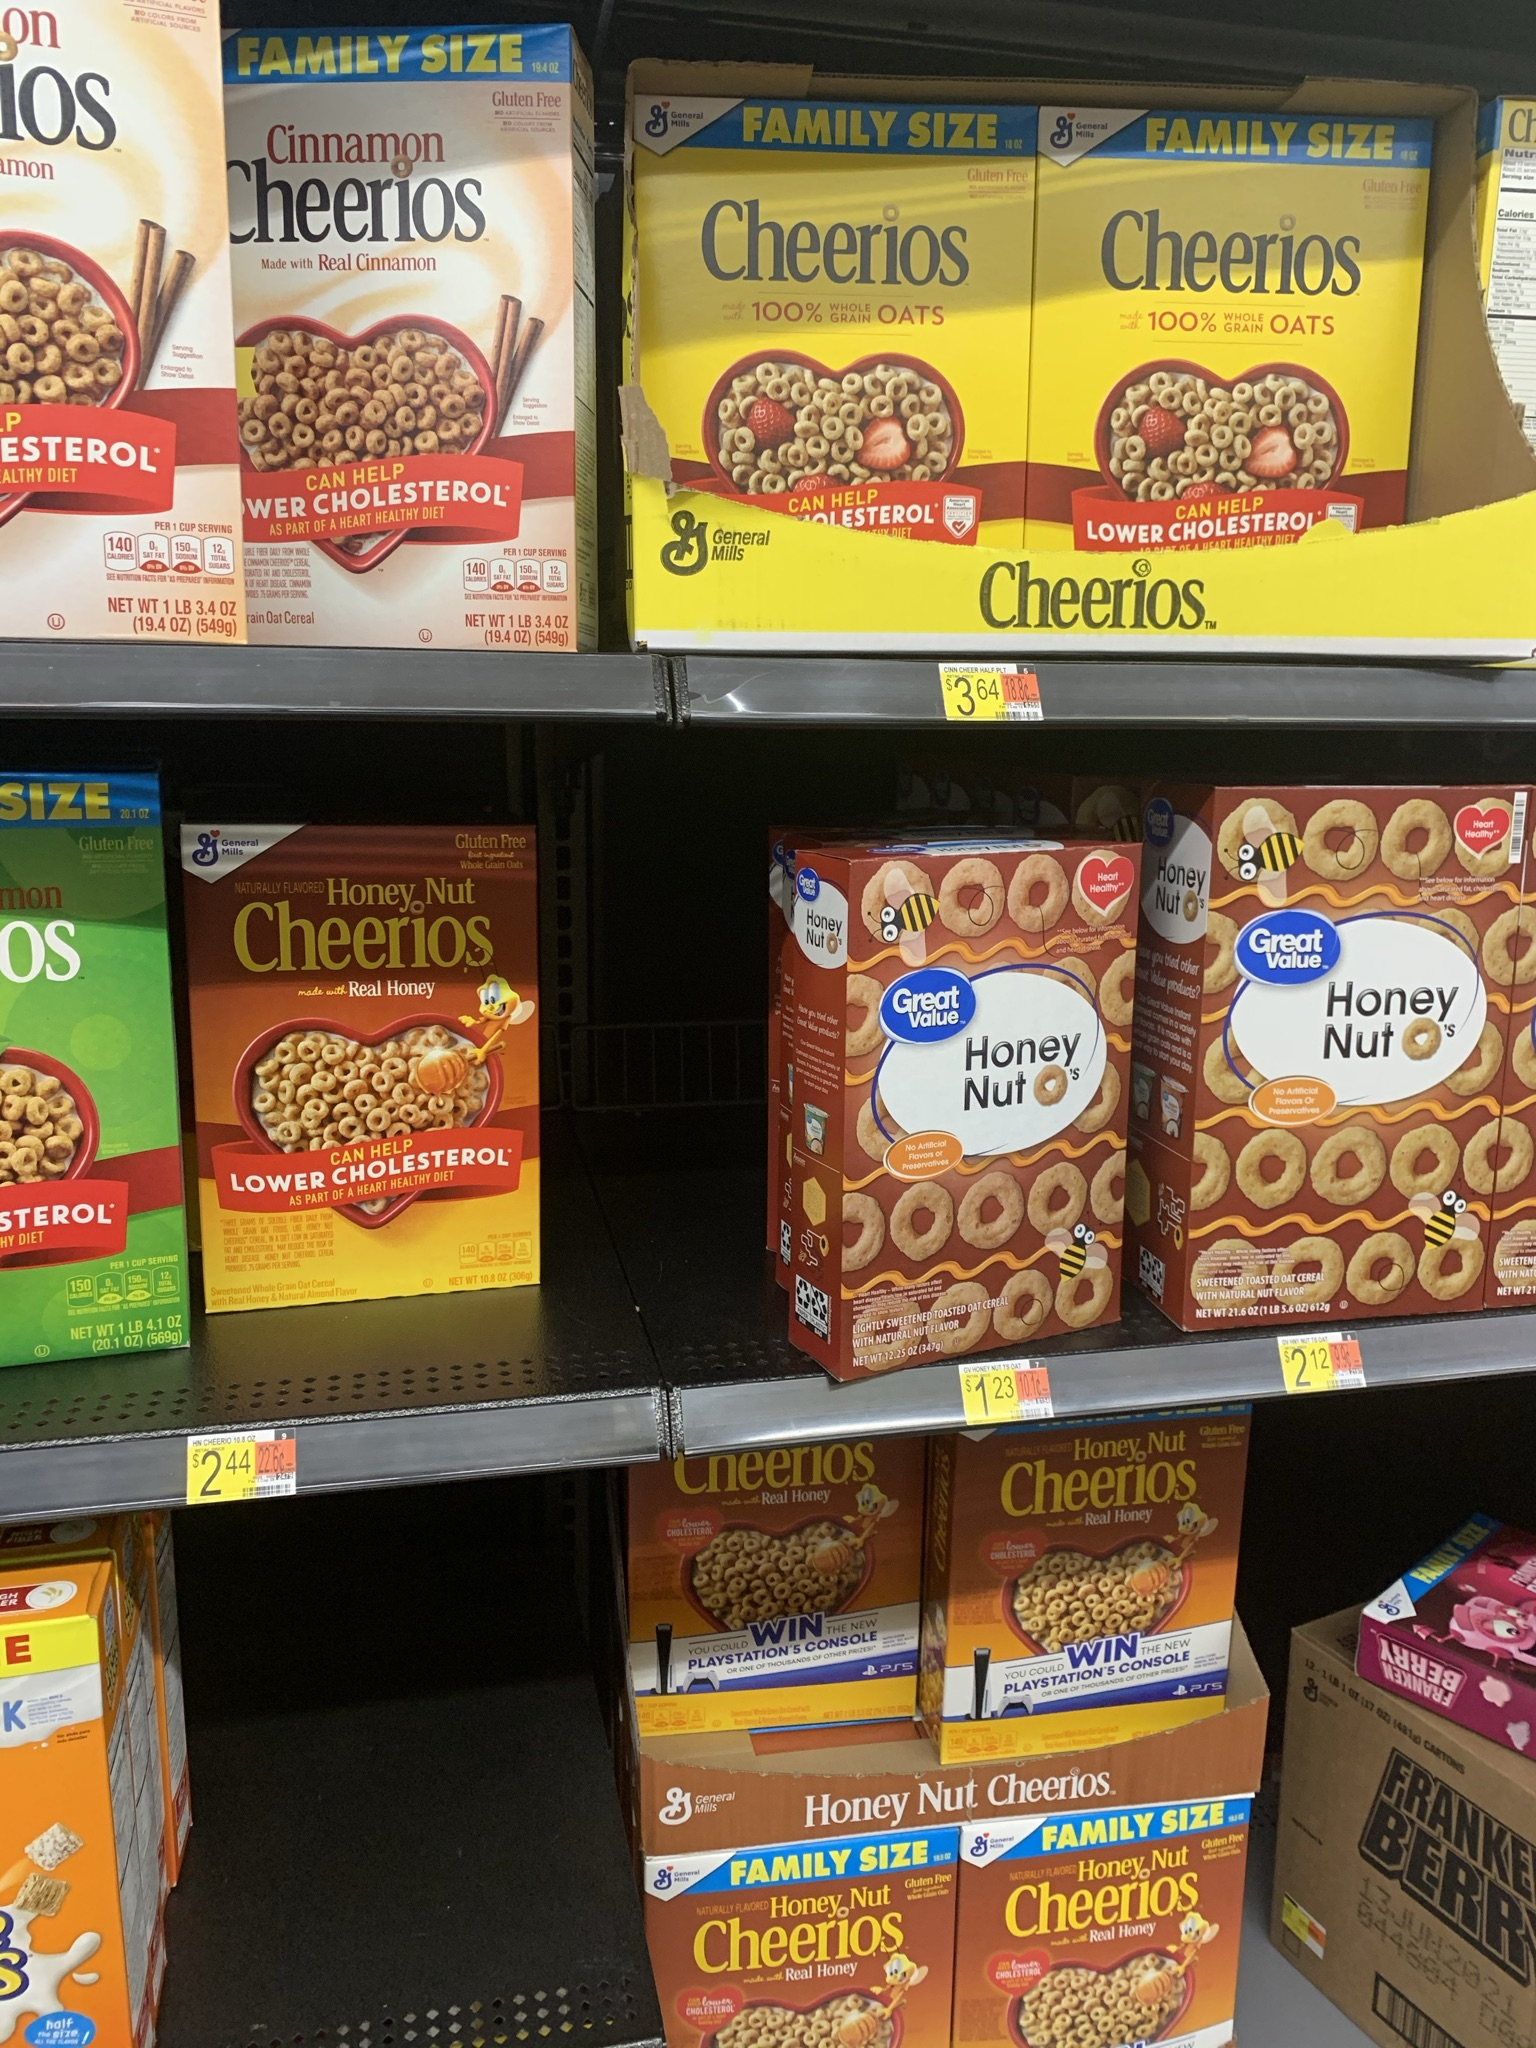box: (245, 53, 570, 640), (195, 842, 536, 1276), (1213, 808, 1491, 1308), (1046, 131, 1402, 519), (2, 23, 221, 640), (845, 877, 1120, 1326), (655, 118, 1025, 443), (2, 800, 165, 1340), (662, 1840, 965, 2048), (970, 1458, 1229, 1698), (657, 1472, 923, 1672), (979, 1838, 1229, 2048)
